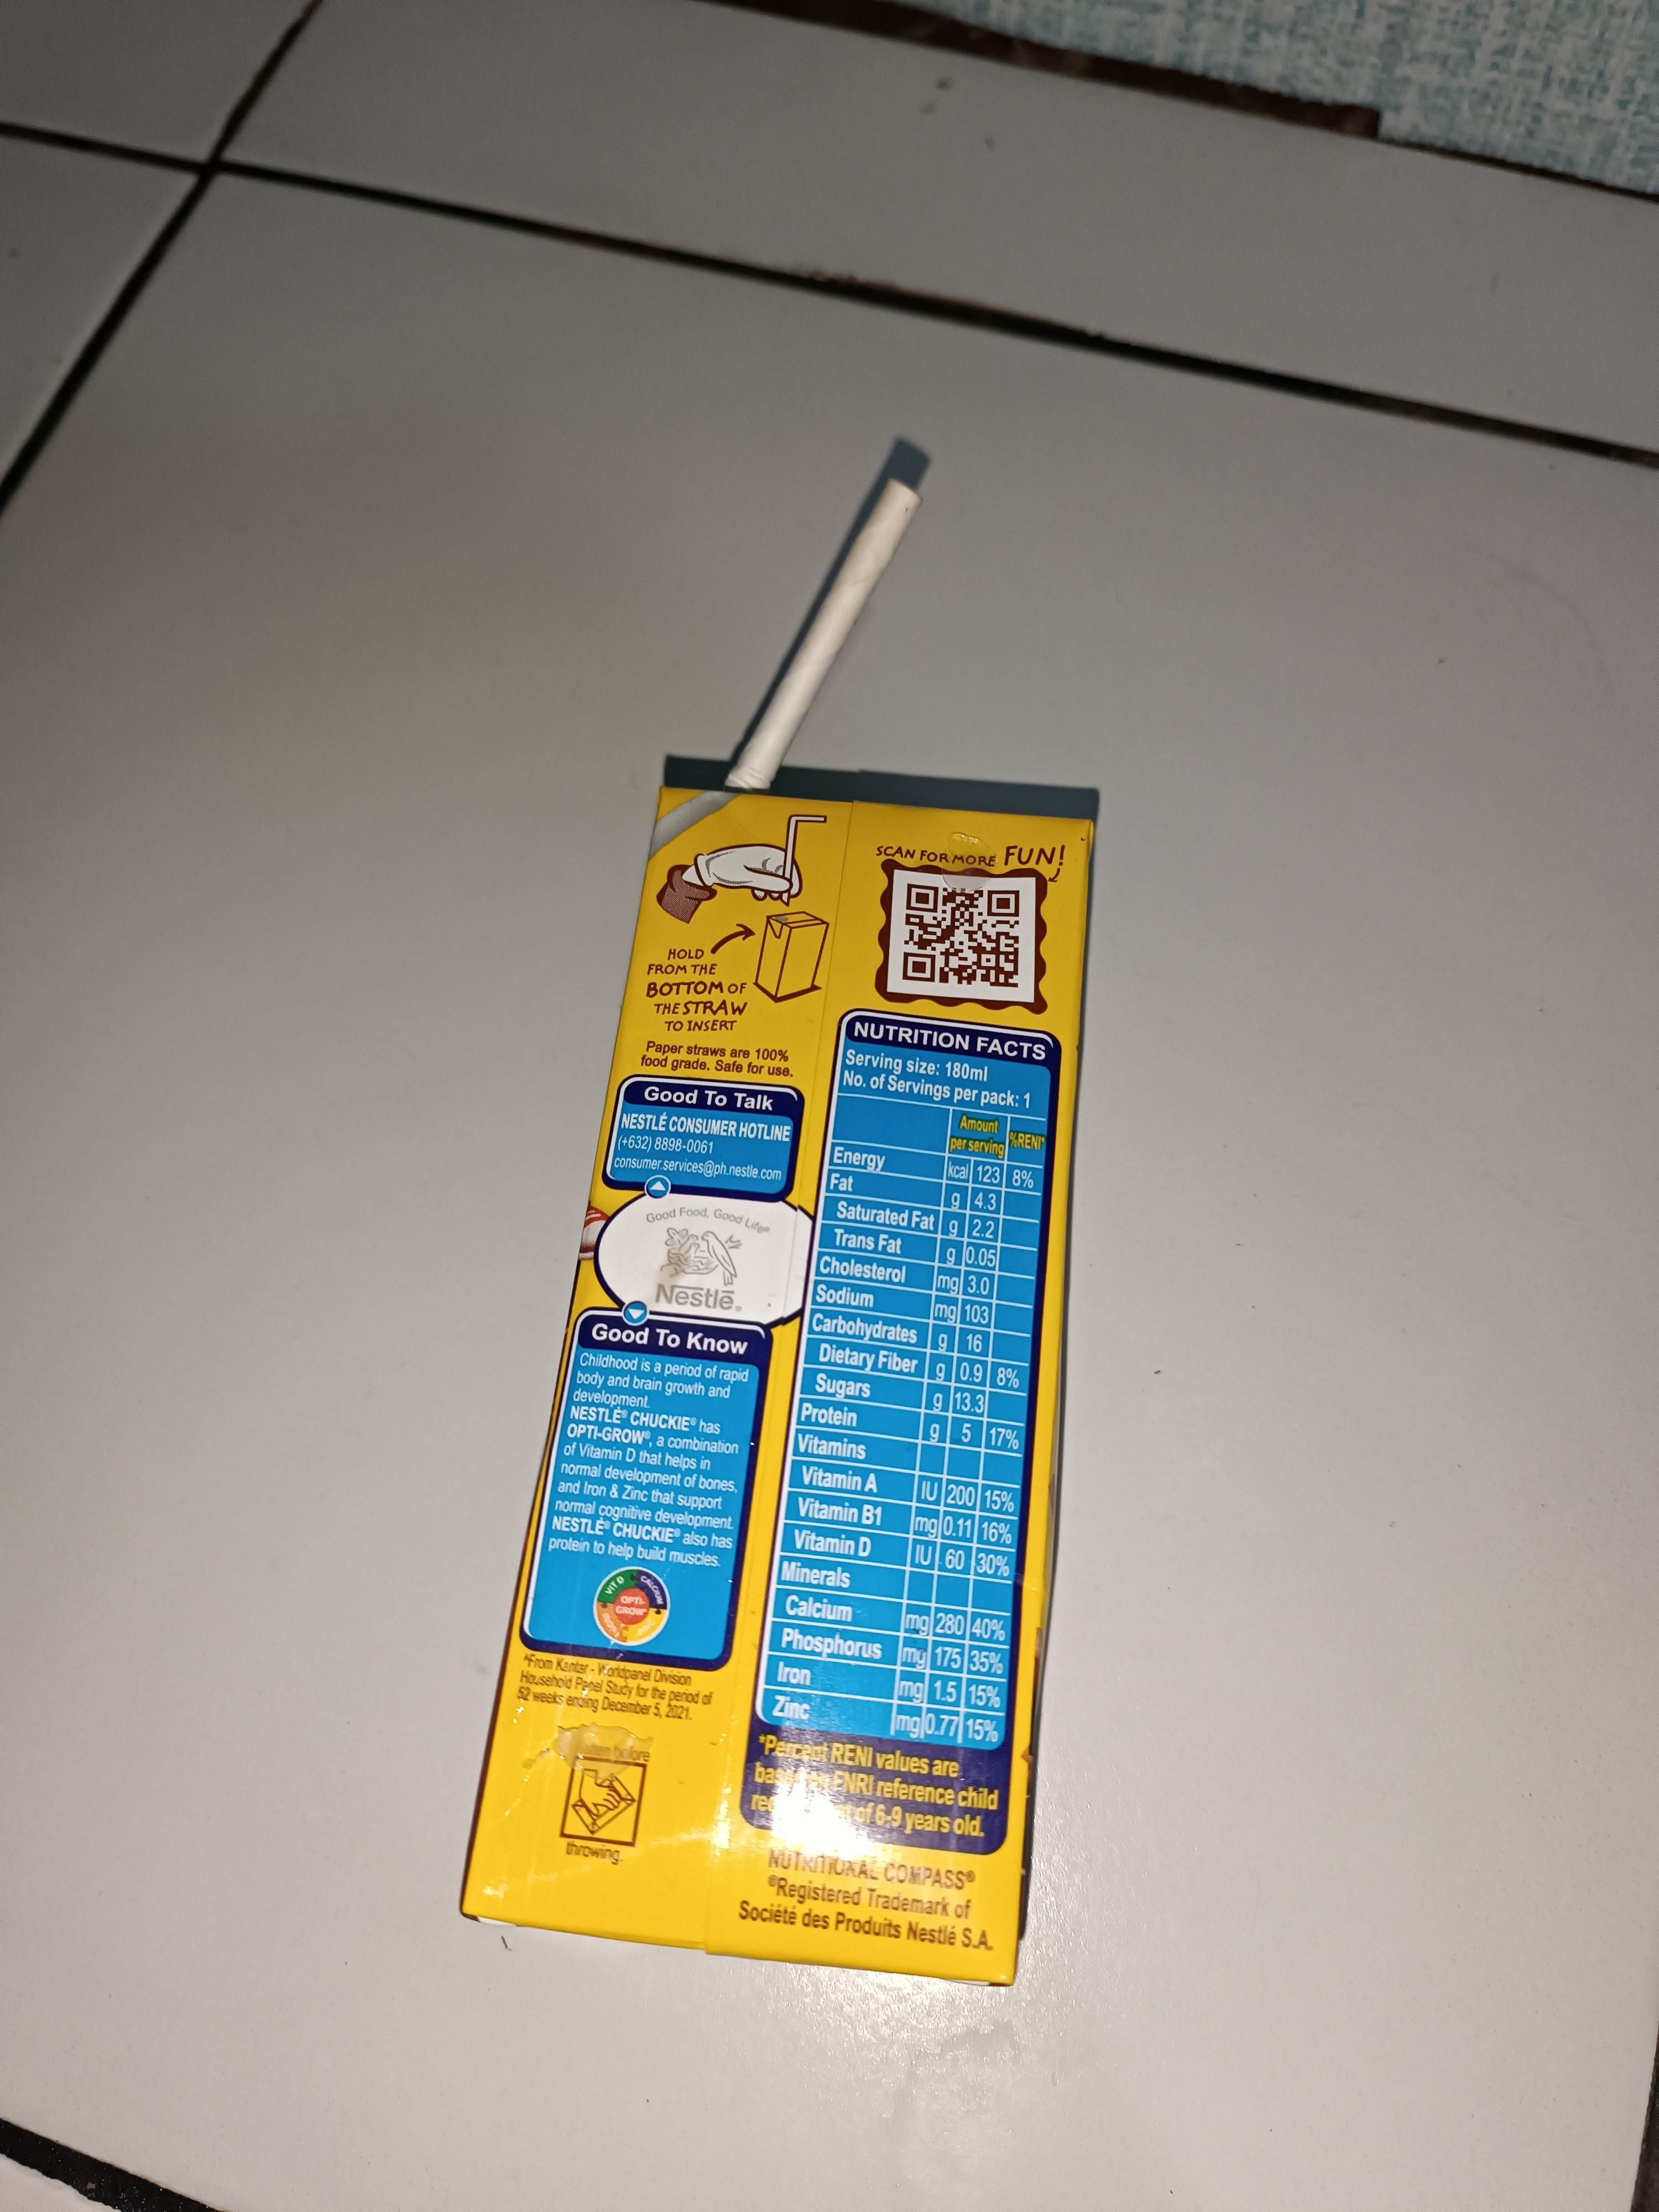Juice Box: (354, 465, 1187, 1918)
